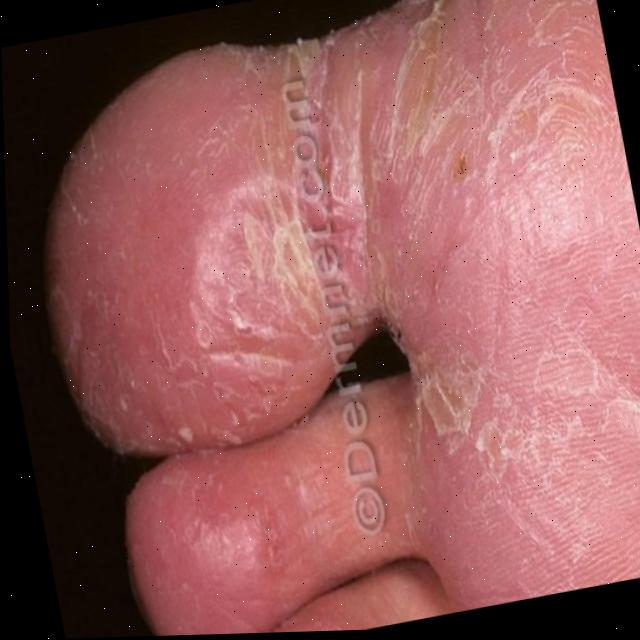Eczema: (22, 15, 640, 639)
